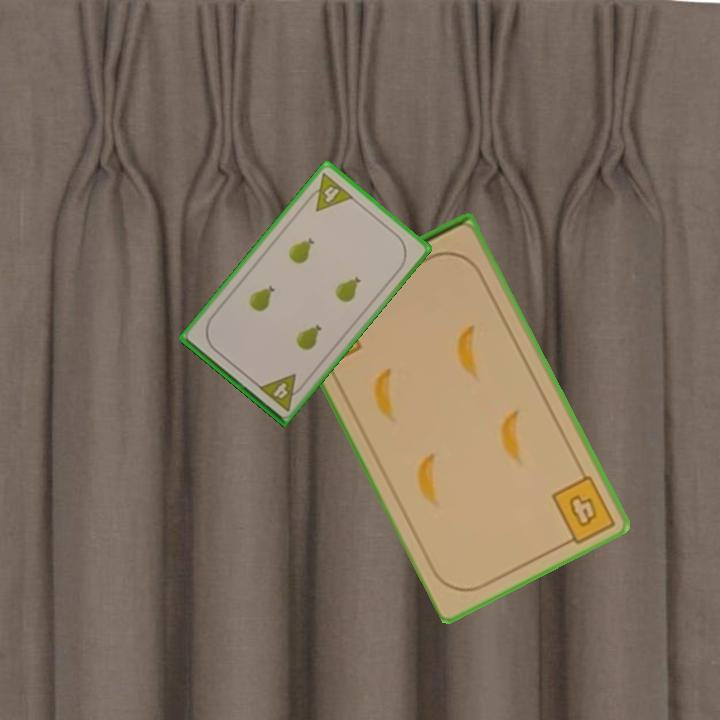4b: (548, 471, 618, 549)
4p: (302, 169, 356, 214), (255, 370, 308, 414)
